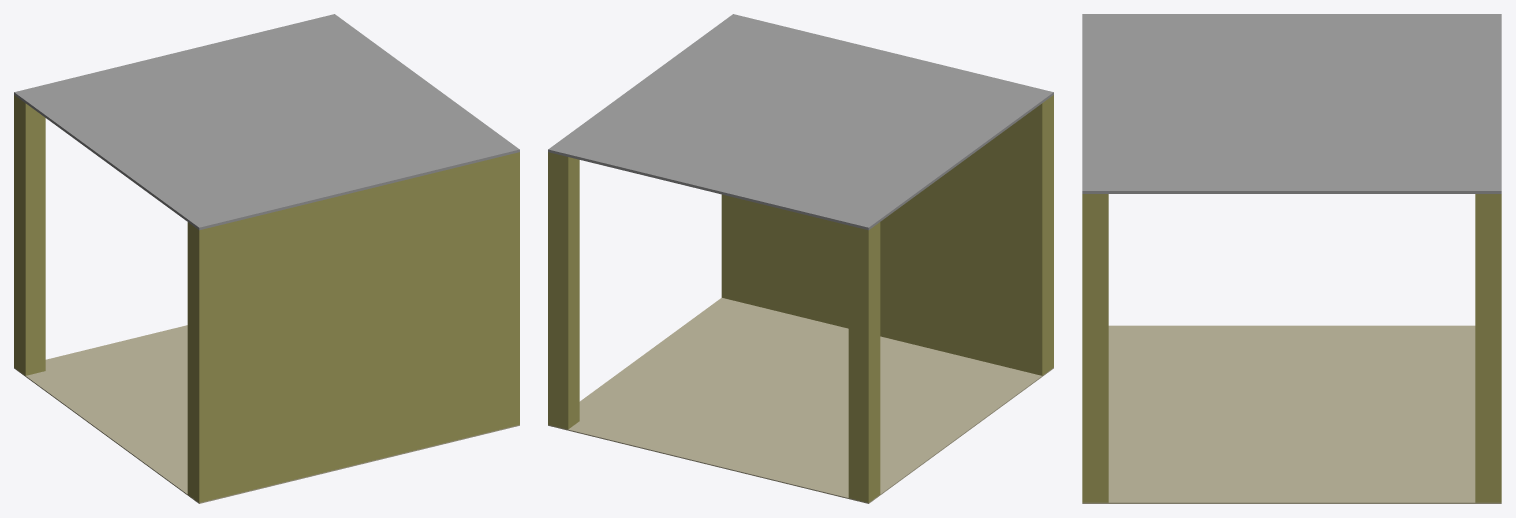
File: tile9.gltf
3 views of the same model, side by side, from view 1: azimuth 30°, elevation 25°; view 2: azimuth 150°, elevation 25°; view 3: azimuth 270°, elevation 25° (orthographic). The views are drawn at different scales.
Parts seen in each view (by area): view 1: cube (×4); view 2: cube (×5); view 3: cube (×4).
Part boxes in pixels (<box>): cube (×4): <box>14,14,519,503</box>; cube (×5): <box>548,14,1053,503</box>; cube (×4): <box>1082,14,1501,503</box>.
Size of the model in its own units: 1 by 0.8234 by 1.
Materials: 1 (1 with a texture image).
